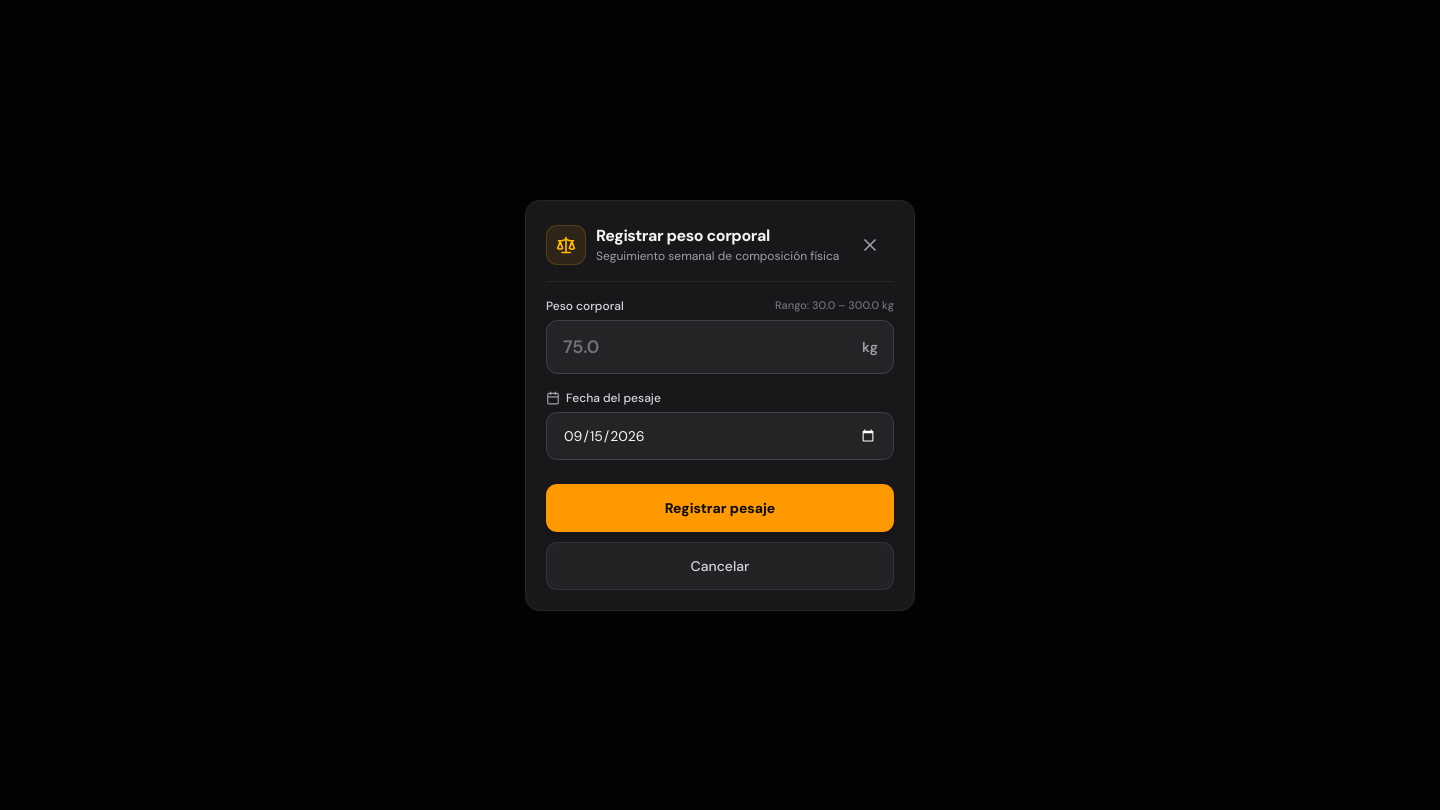
Test case: TASK-32: WeightLogModal.tsx — Mobile-First Weight Logging & Editing (RF-01, RF-02, Art. 2, Art. 6) › Numerical Range Validation (RF-01 CA-01.5) › should show error when weight exceeds 300.0 kg and block submission
Type "310.5" into the field with placeholder "75.0". click: (720, 346)
box: [546,320,894,374]
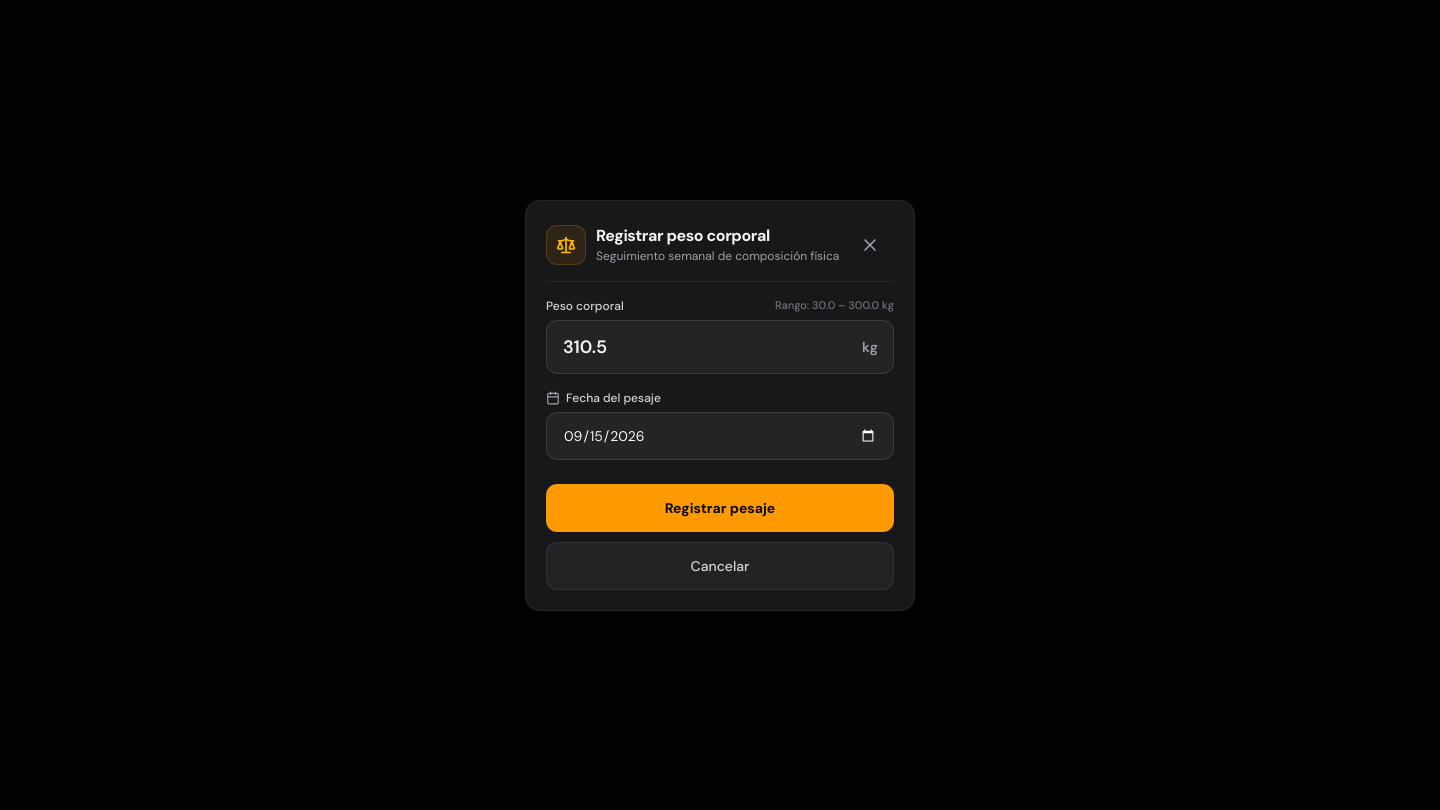
Click the button "Registrar pesaje". click: (720, 508)
box: [546,484,894,532]
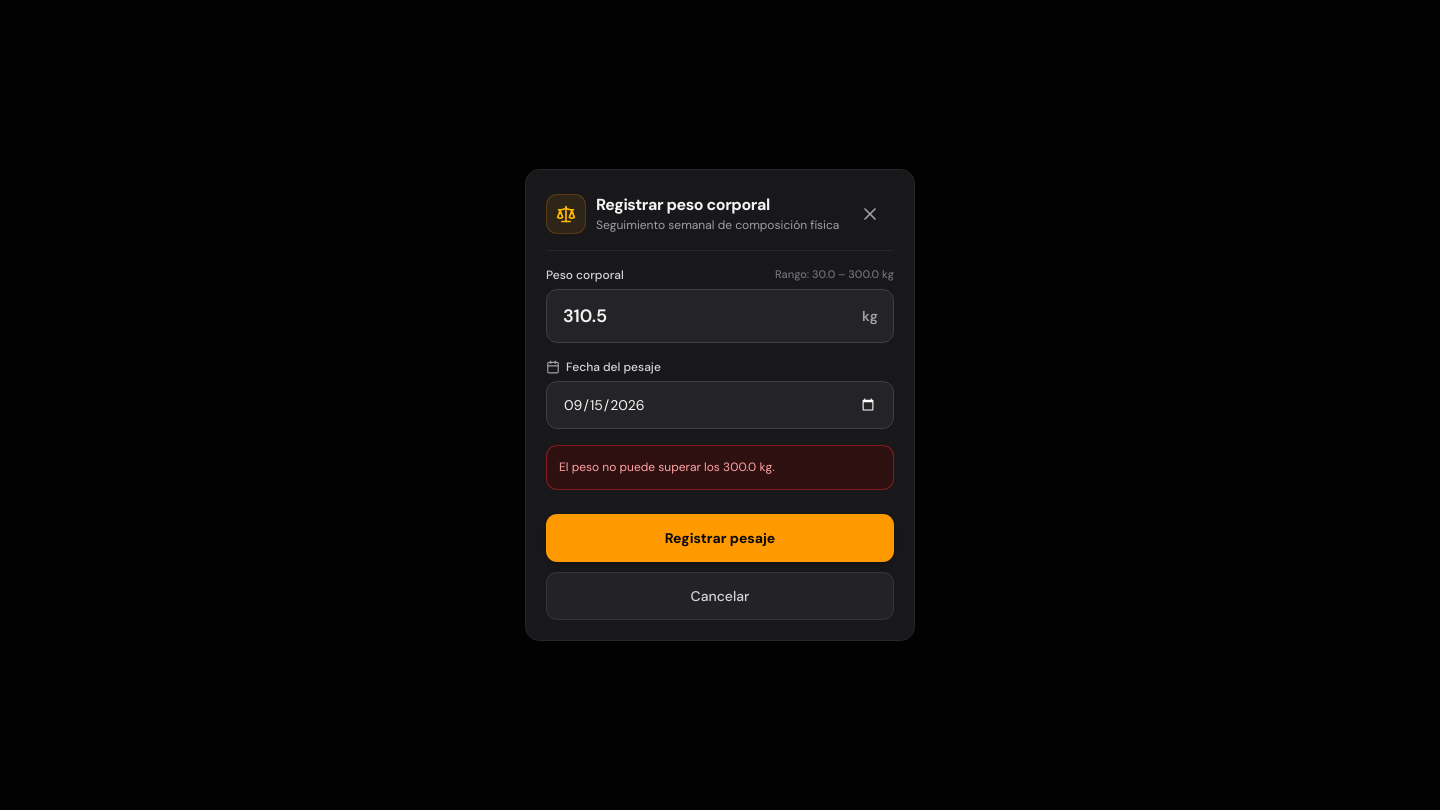
expect the text "El peso no puede superar los 300.0 kg." is shown: met, box [546,445,894,490]
